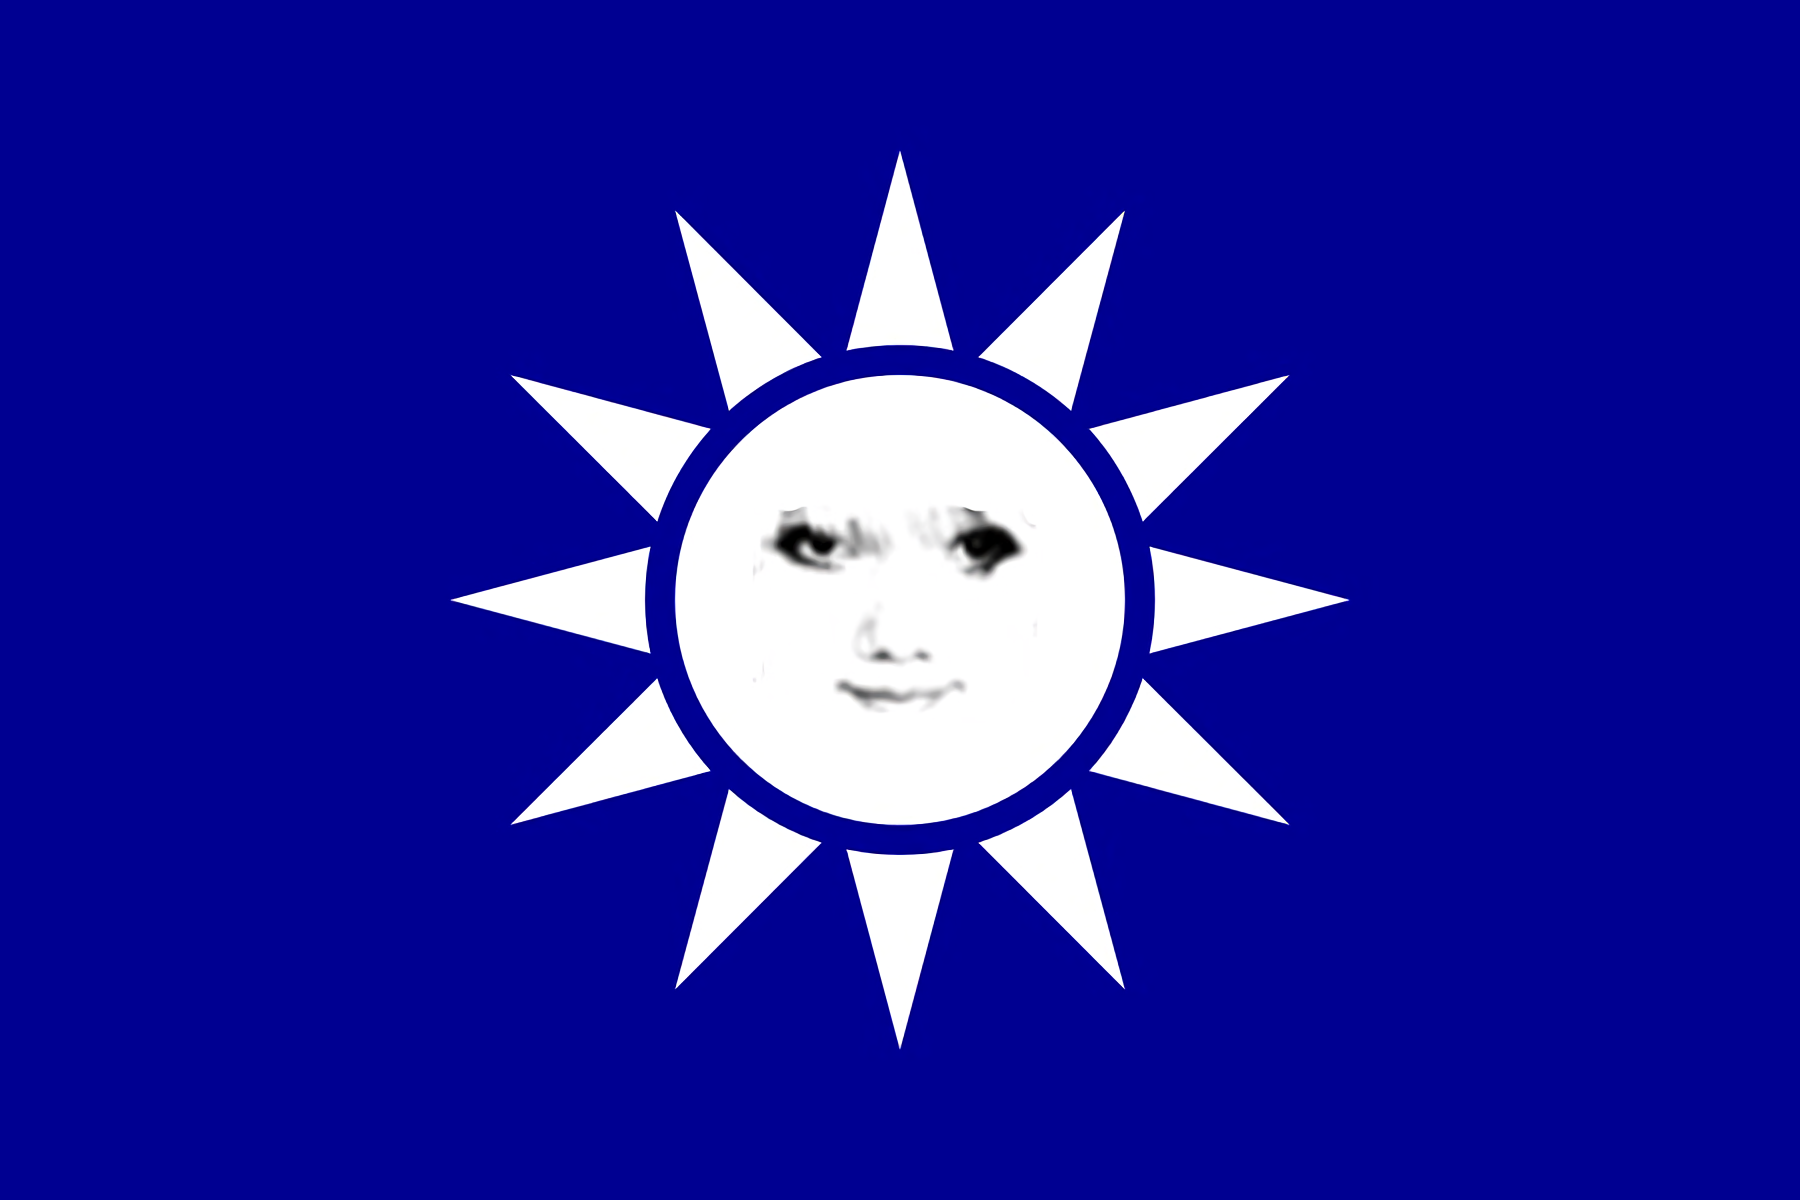dragon: (759, 470, 1046, 754)
